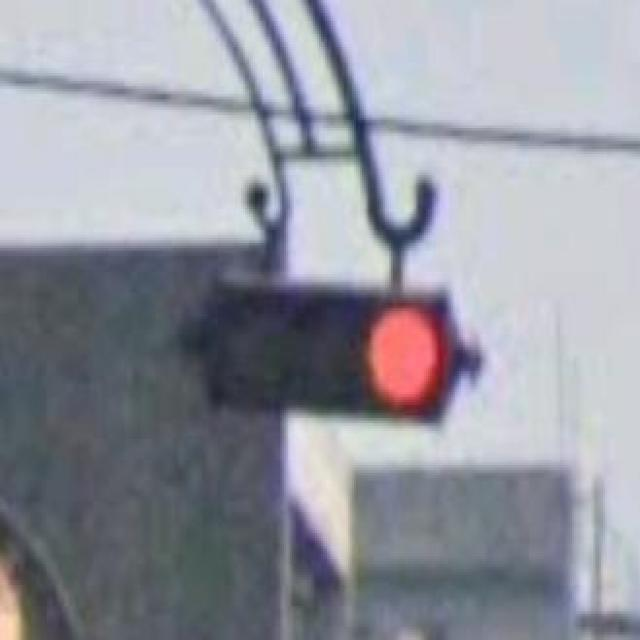red_light: (208, 282, 455, 426)
